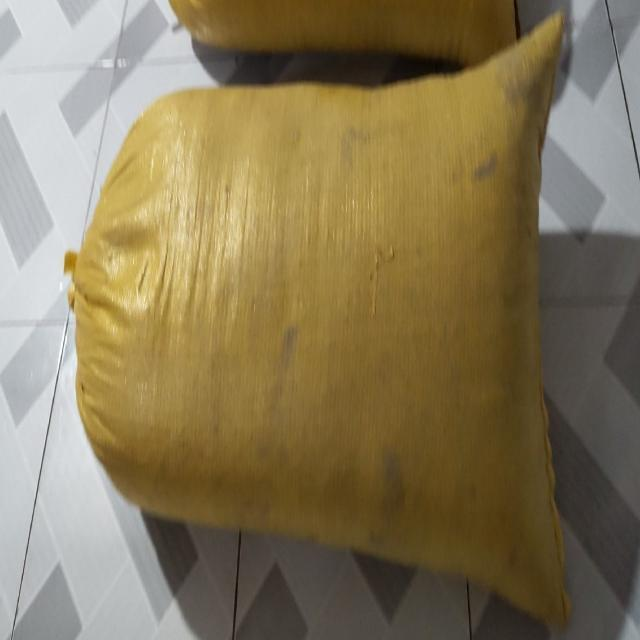gunny_bag: (69, 13, 571, 625)
